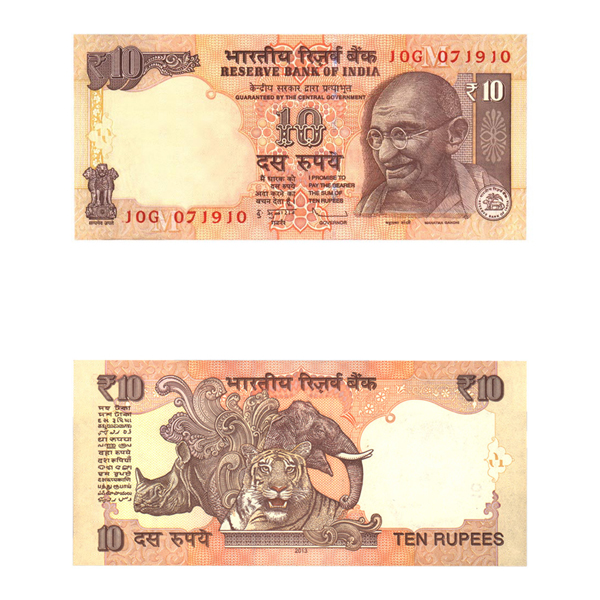ten_rupees_note: (73, 32, 527, 239), (72, 360, 528, 565)
